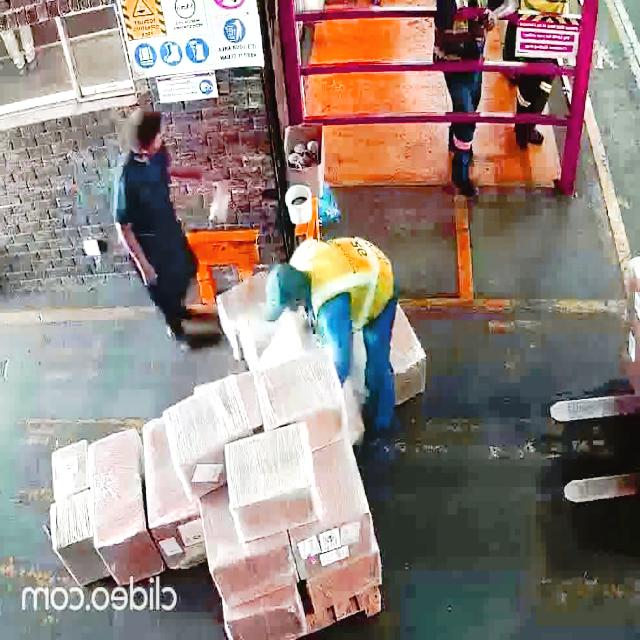Box: (220, 422, 314, 540), (258, 340, 348, 432), (96, 434, 148, 576), (168, 376, 245, 466), (294, 504, 374, 572), (214, 538, 294, 604), (309, 549, 383, 608), (54, 490, 96, 588), (229, 596, 302, 640), (46, 433, 90, 498)
